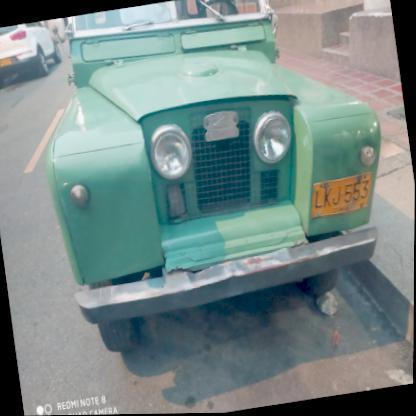placa: (306, 171, 378, 224)
